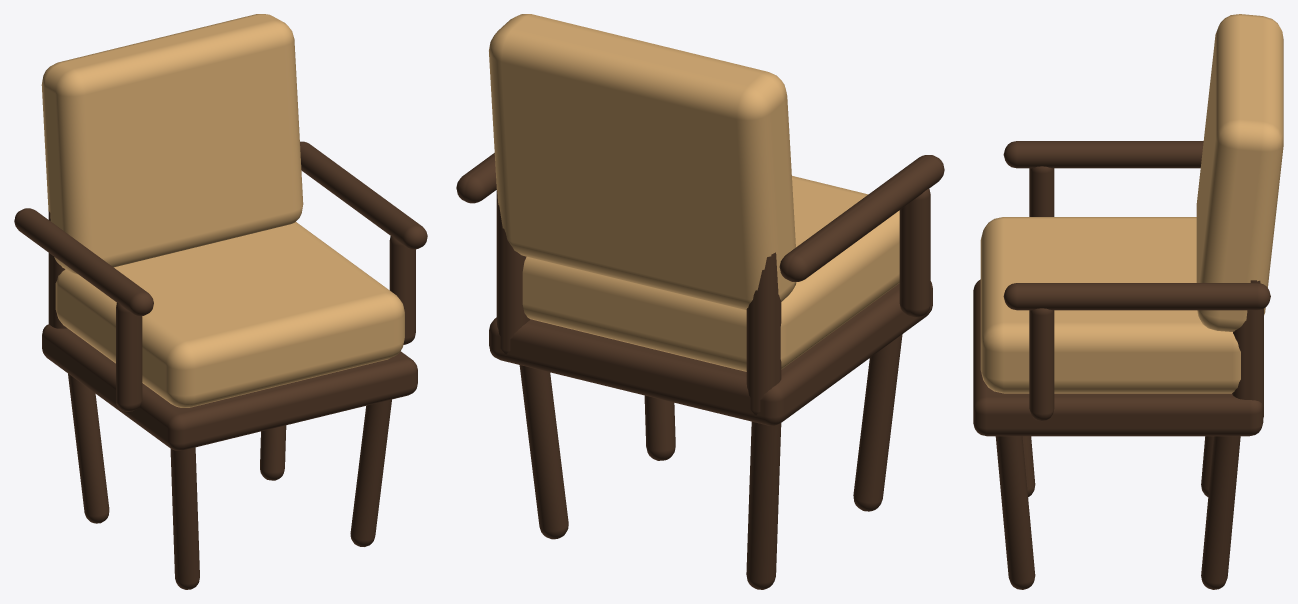
Rendered from demo-chair.glb.
3 renders of one model, left to right at view 1: azimuth 30°, elevation 25°; view 2: azimuth 150°, elevation 25°; view 3: azimuth 270°, elevation 25°, orthographic. The views are drawn at different scales.
Parts seen in each view (by area): view 1: Demo Studio Chair; view 2: Demo Studio Chair; view 3: Demo Studio Chair.
Part boxes in pixels (left/top/right/bottom): Demo Studio Chair: left=14, top=14, right=427, bottom=589; Demo Studio Chair: left=456, top=14, right=944, bottom=589; Demo Studio Chair: left=973, top=14, right=1283, bottom=589.
Size of the model in its own units: 0.955 by 1.37 by 0.814.
